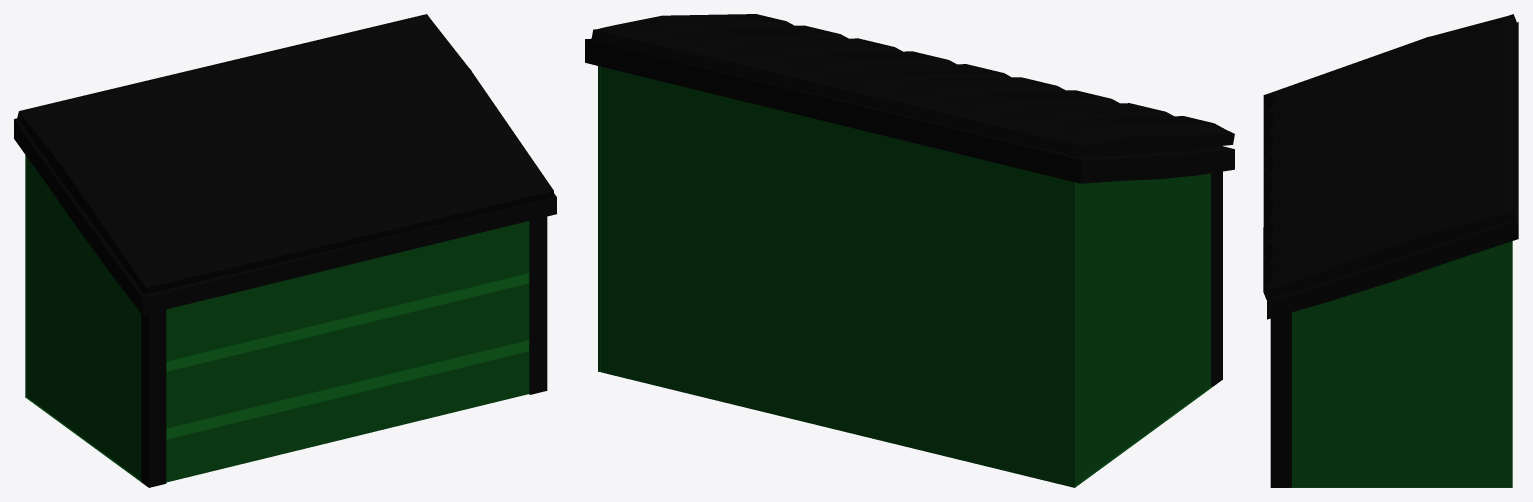
File: Dumpster.fbx
The picture shows the model from 3 angles, left to right: view 1: azimuth 30°, elevation 25°; view 2: azimuth 150°, elevation 25°; view 3: azimuth 270°, elevation 25°; orthographic projection. The views are drawn at different scales.
Visible parts, largest first — view 1: Dumpster, Lid; view 2: Dumpster, Lid; view 3: Dumpster, Lid.
Boxes of the visible parts, x1,y1,x2,y2 form: Dumpster: (14, 118, 556, 487); Lid: (17, 14, 553, 294); Dumpster: (585, 38, 1234, 487); Lid: (591, 14, 1234, 156); Dumpster: (1267, 22, 1518, 487); Lid: (1263, 14, 1516, 299).
Size of the model in its own units: 2.52 by 1.69 by 1.37.
